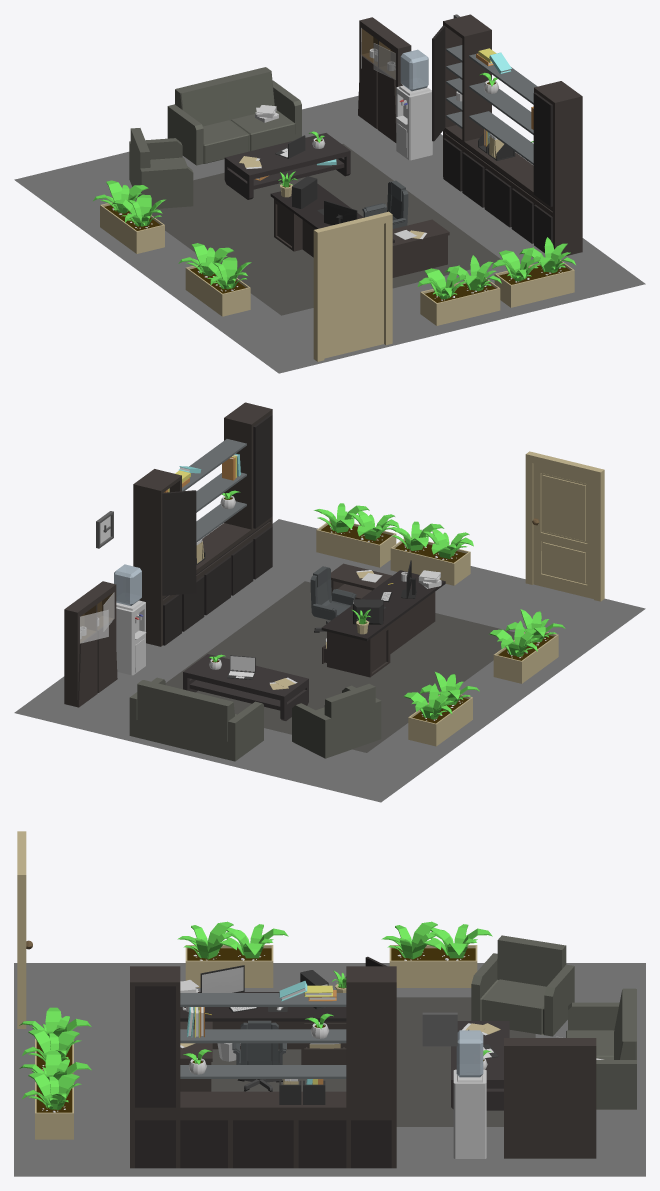
File: Bossoffice.fbx
3 views of the same model, one above another, from view 1: azimuth 30°, elevation 25°; view 2: azimuth 150°, elevation 25°; view 3: azimuth 270°, elevation 25° (orthographic). The views are drawn at different scales.
Visible parts, largest first — view 1: pPlane1, pCube4, pPlane2, pasted__pCube216, pasted__pCube400, pasted__pCube271, pasted__pCube417 (×2), pasted__pCube126 (×2), Table, pCube1, pasted__pCube401, pasted__pCube142 (+10 smaller); view 2: pPlane1, pPlane2, pCube4, pasted__pCube216, pasted__pCube400, pasted__pCube271, pCube1, pasted__pCube401, pasted__pCube126 (×2), pasted__pCube417 (×2), Table, pCube8 (+10 smaller); view 3: pPlane1, pCube4, pasted__pCube271, pPlane2, pasted__pCube401, pasted__pCube400, pasted__pCube126 (×2), pasted__pCube417, pCube1, pasted__pCube142, pCube6, pCube7 (+10 smaller).
Part boxes in pixels (<box>): pPlane1: <box>14,95,645,373</box>; pCube4: <box>443,14,582,256</box>; pPlane2: <box>135,144,501,315</box>; pasted__pCube216: <box>313,211,392,361</box>; pasted__pCube400: <box>167,67,301,165</box>; pasted__pCube271: <box>358,17,411,142</box>; pasted__pCube417 (×2): <box>100,202,500,325</box>; pasted__pCube126 (×2): <box>185,260,574,316</box>; Table: <box>224,133,350,199</box>; pCube1: <box>274,199,449,277</box>; pasted__pCube401: <box>129,128,193,208</box>; pasted__pCube142: <box>396,85,432,160</box>; pPlane1: <box>14,519,645,802</box>; pPlane2: <box>165,581,514,752</box>; pCube4: <box>133,402,272,646</box>; pasted__pCube216: <box>525,451,604,601</box>; pasted__pCube400: <box>129,677,263,761</box>; pasted__pCube271: <box>64,581,117,707</box>; pCube1: <box>322,563,435,677</box>; pasted__pCube401: <box>292,683,381,758</box>; pasted__pCube126 (×2): <box>316,519,558,683</box>; pasted__pCube417 (×2): <box>390,537,472,746</box>; Table: <box>183,654,308,720</box>; pCube8: <box>162,490,196,595</box>; pPlane1: <box>14,963,645,1176</box>; pCube4: <box>130,966,396,1168</box>; pasted__pCube271: <box>504,1038,596,1158</box>; pPlane2: <box>211,997,535,1126</box>; pasted__pCube401: <box>471,935,574,1036</box>; pasted__pCube400: <box>566,988,636,1109</box>; pasted__pCube126 (×2): <box>35,945,273,1139</box>; pasted__pCube417: <box>389,945,477,987</box>; pCube1: <box>180,1021,346,1091</box>; pasted__pCube142: <box>453,1069,486,1158</box>; pCube6: <box>180,1029,346,1043</box>; pCube7: <box>180,1065,346,1078</box>.
Size of the model in its own units: 27.44 by 11.3 by 34.31.
